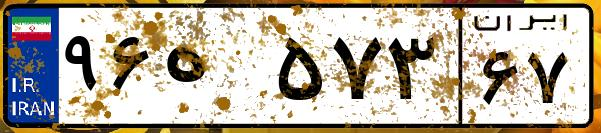3: (385, 28, 445, 110)
5: (270, 28, 330, 110)
6: (475, 38, 525, 113), (110, 28, 158, 98)
7: (330, 28, 385, 110), (525, 38, 570, 115)
9: (57, 26, 110, 100)
ه: (158, 20, 270, 120)
